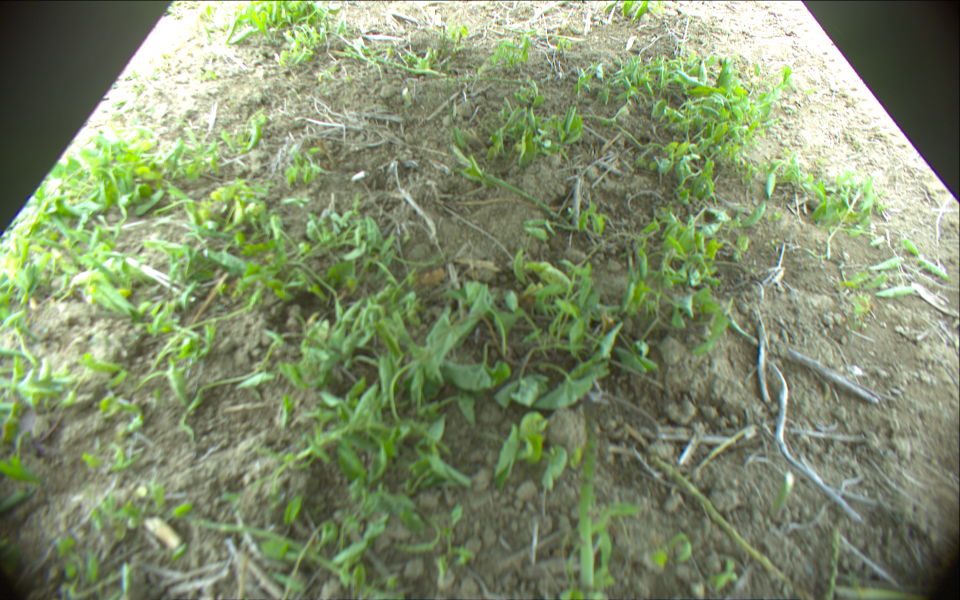aspa: (655, 455, 789, 581), (578, 392, 597, 589), (328, 48, 447, 79), (821, 524, 842, 600)
